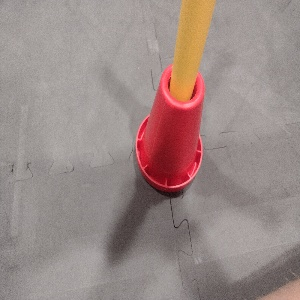Red_1: (131, 60, 204, 193)
